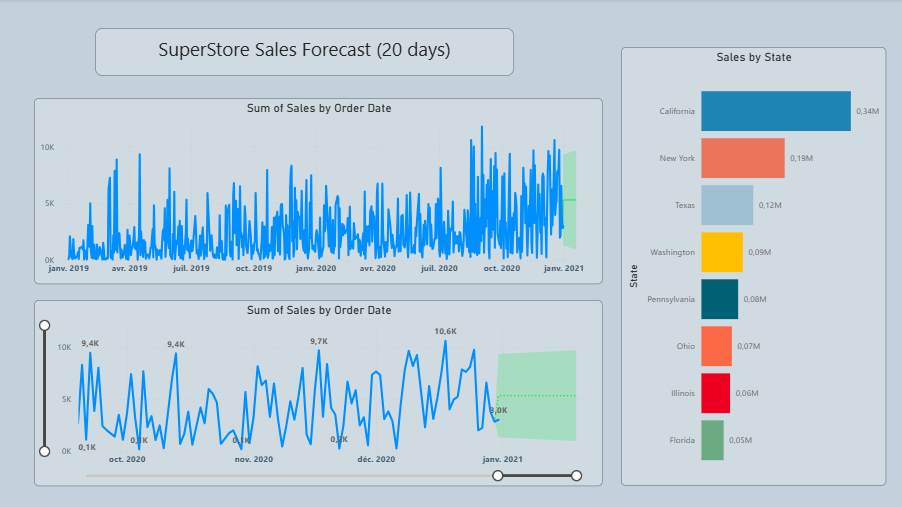

This screenshot's page, from the dashboard's own definition file:
{"tool":"powerbi","page":{"name":"Forecasting","canvas":[1280,720],"ordinal":1},"visuals":[{"type":"lineChart","fields":{"Y":["Sum(SuperStore_Sales_Dataset.Sales)"],"Category":["SuperStore_Sales_Dataset.Order Date"]},"box":[48.2,140.3,806.5,263.6],"z":0},{"type":"lineChart","fields":{"Y":["Sum(SuperStore_Sales_Dataset.Sales)"],"Category":["SuperStore_Sales_Dataset.Order Date"]},"box":[48.2,426.6,806.5,263.6],"z":1000},{"type":"clusteredBarChart","title":"Sales by State","fields":{"Category":["SuperStore_Sales_Dataset.State"],"Y":["Sum(SuperStore_Sales_Dataset.Sales)"]},"box":[880.2,68,375.6,622.2],"z":2000},{"type":"textbox","box":[134.6,41.1,593.9,68],"z":2001}]}

Visuals, with their boxes in screenshot pixels (x1, y1, x2, y2), scaled from the page's 1280x720 canvas onto the 902x507 screenshot:
lineChart - Sum(SuperStore_Sales_Dataset.Sales) x SuperStore_Sales_Dataset.Order Date: bbox=(34, 99, 602, 284)
lineChart - Sum(SuperStore_Sales_Dataset.Sales) x SuperStore_Sales_Dataset.Order Date: bbox=(34, 300, 602, 486)
"Sales by State" clusteredBarChart: bbox=(620, 48, 885, 486)
textbox: bbox=(95, 29, 513, 77)
